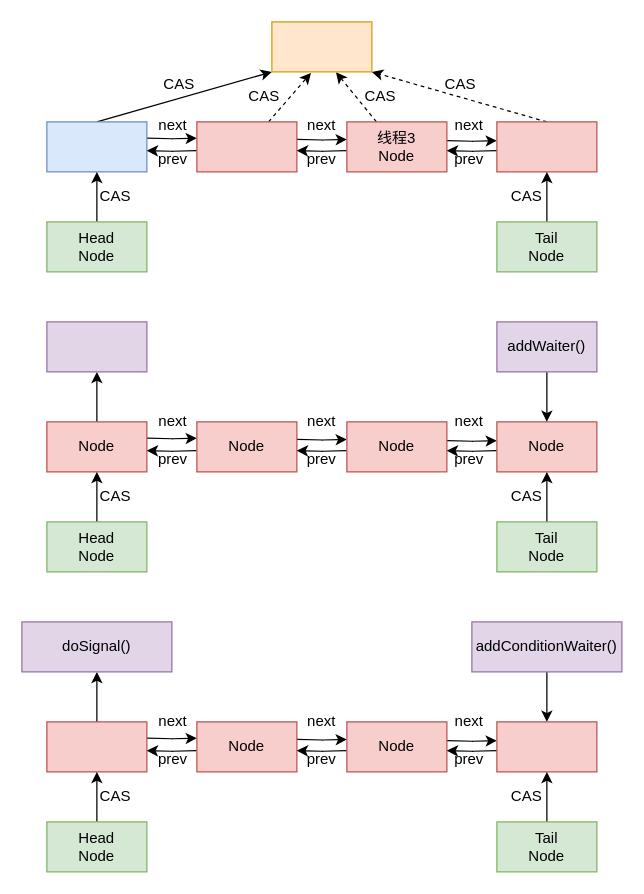
This 644x894 diagram has some shape labels left out. Each missing label, with the box of its shape:
acquire(): (46, 321, 147, 372)
Node firstWaiter: (46, 721, 147, 772)
Node lastWaiter: (496, 721, 597, 772)
state状态: (271, 21, 372, 72)
线程1 Node 占用资源: (46, 121, 147, 172)
线程2 Node: (196, 121, 297, 172)
线程4 Node: (496, 121, 597, 172)
